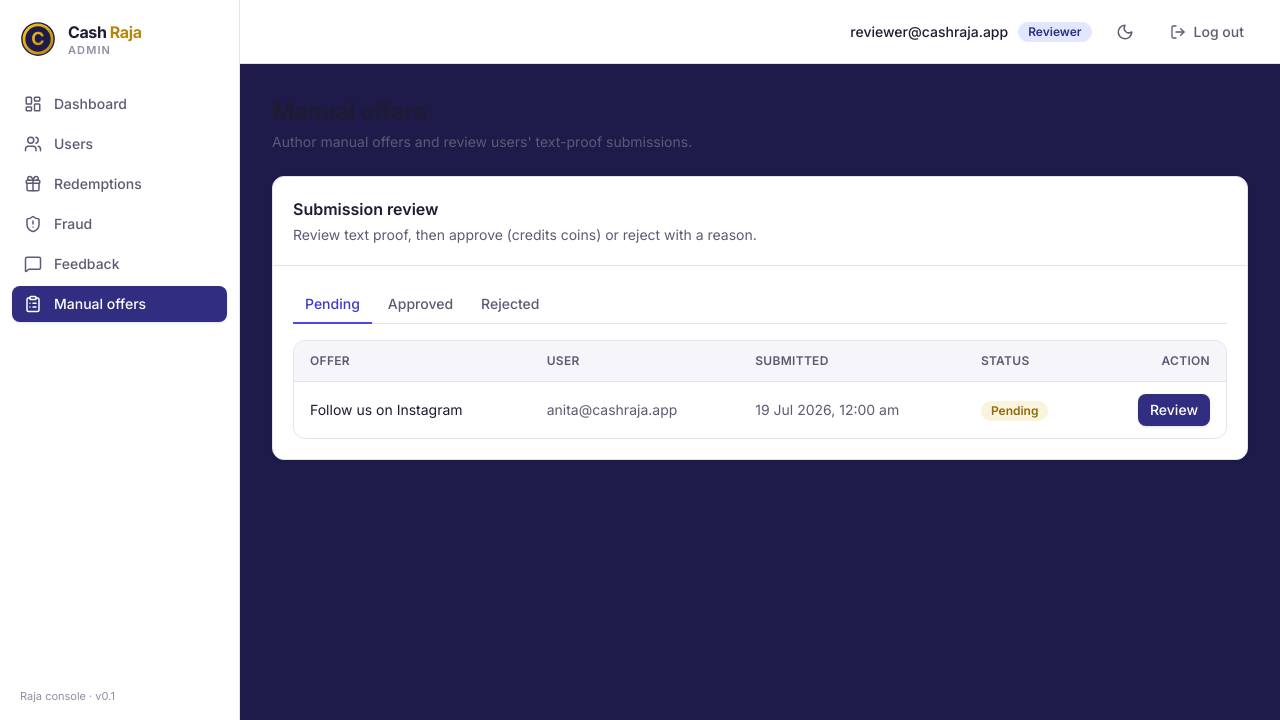
Test case: Manual offers (admin) › reviewer rejects a submission with a reason
The width and height of the screenshot is (1280, 720).
Expected: the text "anita@cashraja.app" is shown, [531,382,739,438]
Click the button "Review" at (1174, 410), box [1138,394,1210,426]
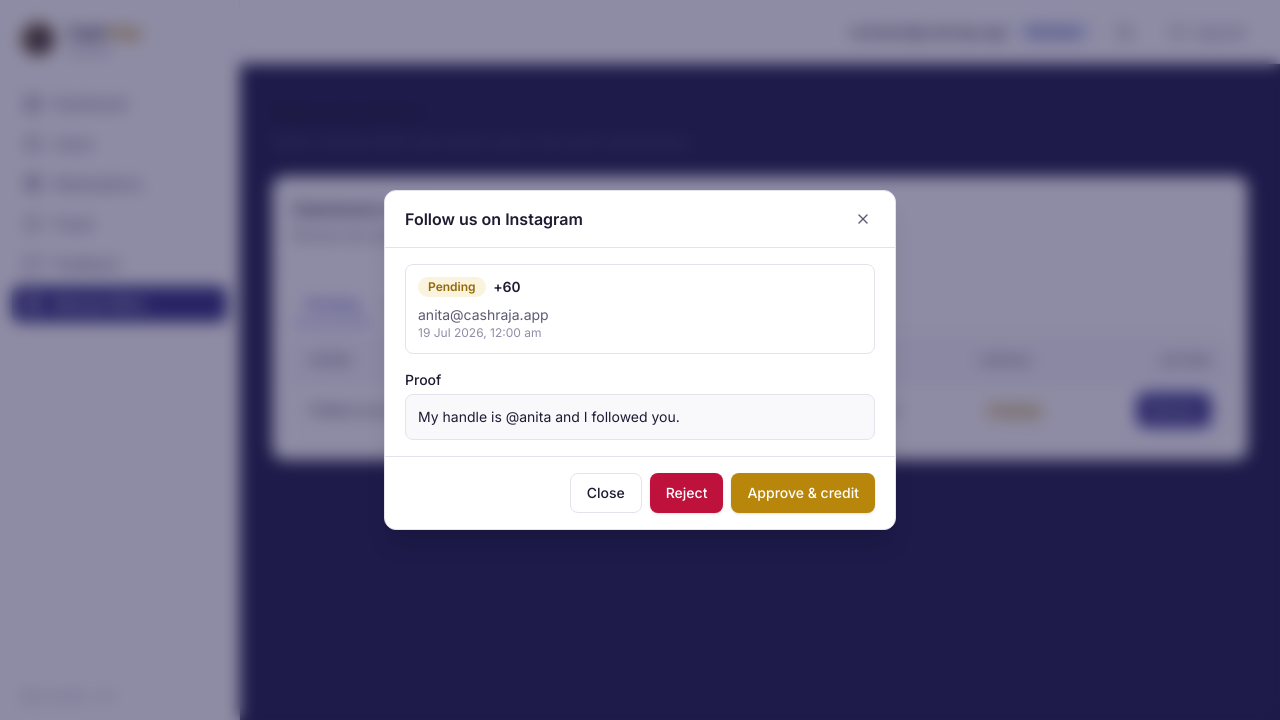
Click the button "Reject" at (687, 493), box [650,473,723,513]
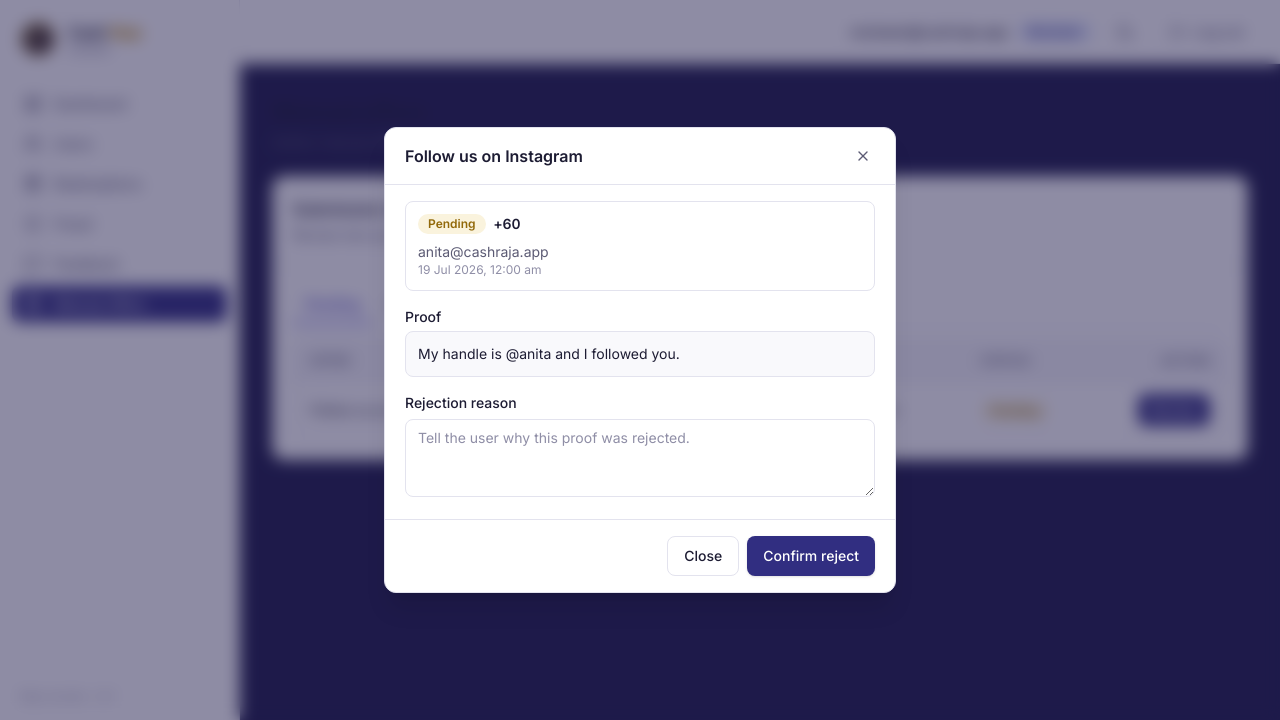
Type "Proof is not verifiable" into the text box labelled "Rejection reason" at (640, 458), box [405,419,875,497]
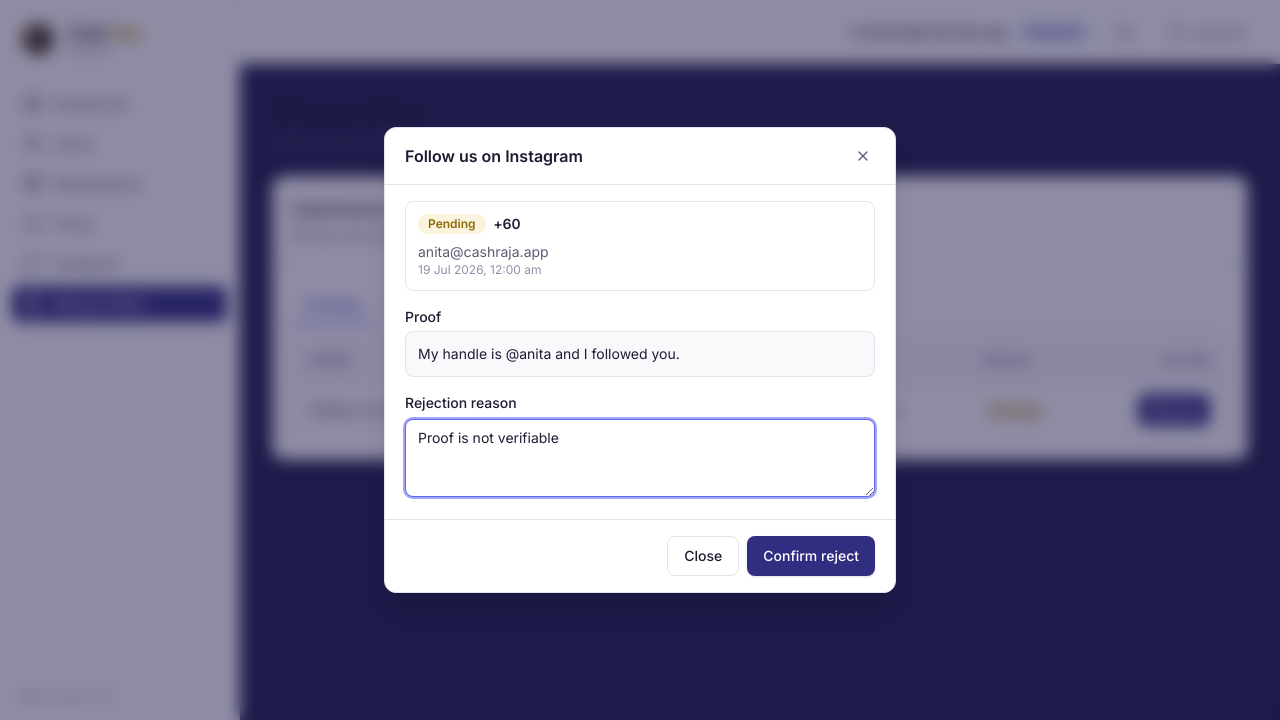
Click the button "Confirm reject" at (811, 556), box [747,536,875,576]
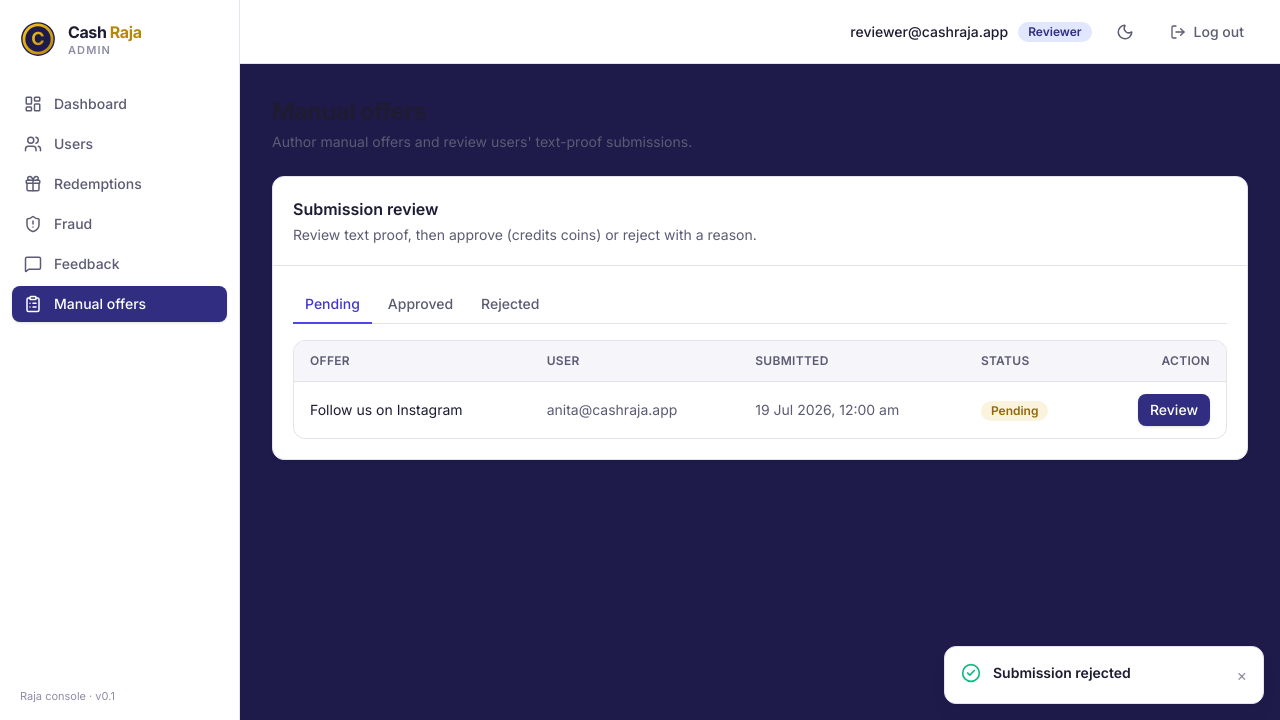
Expected: the text "Submission rejected" is shown, [993,664,1131,681]
